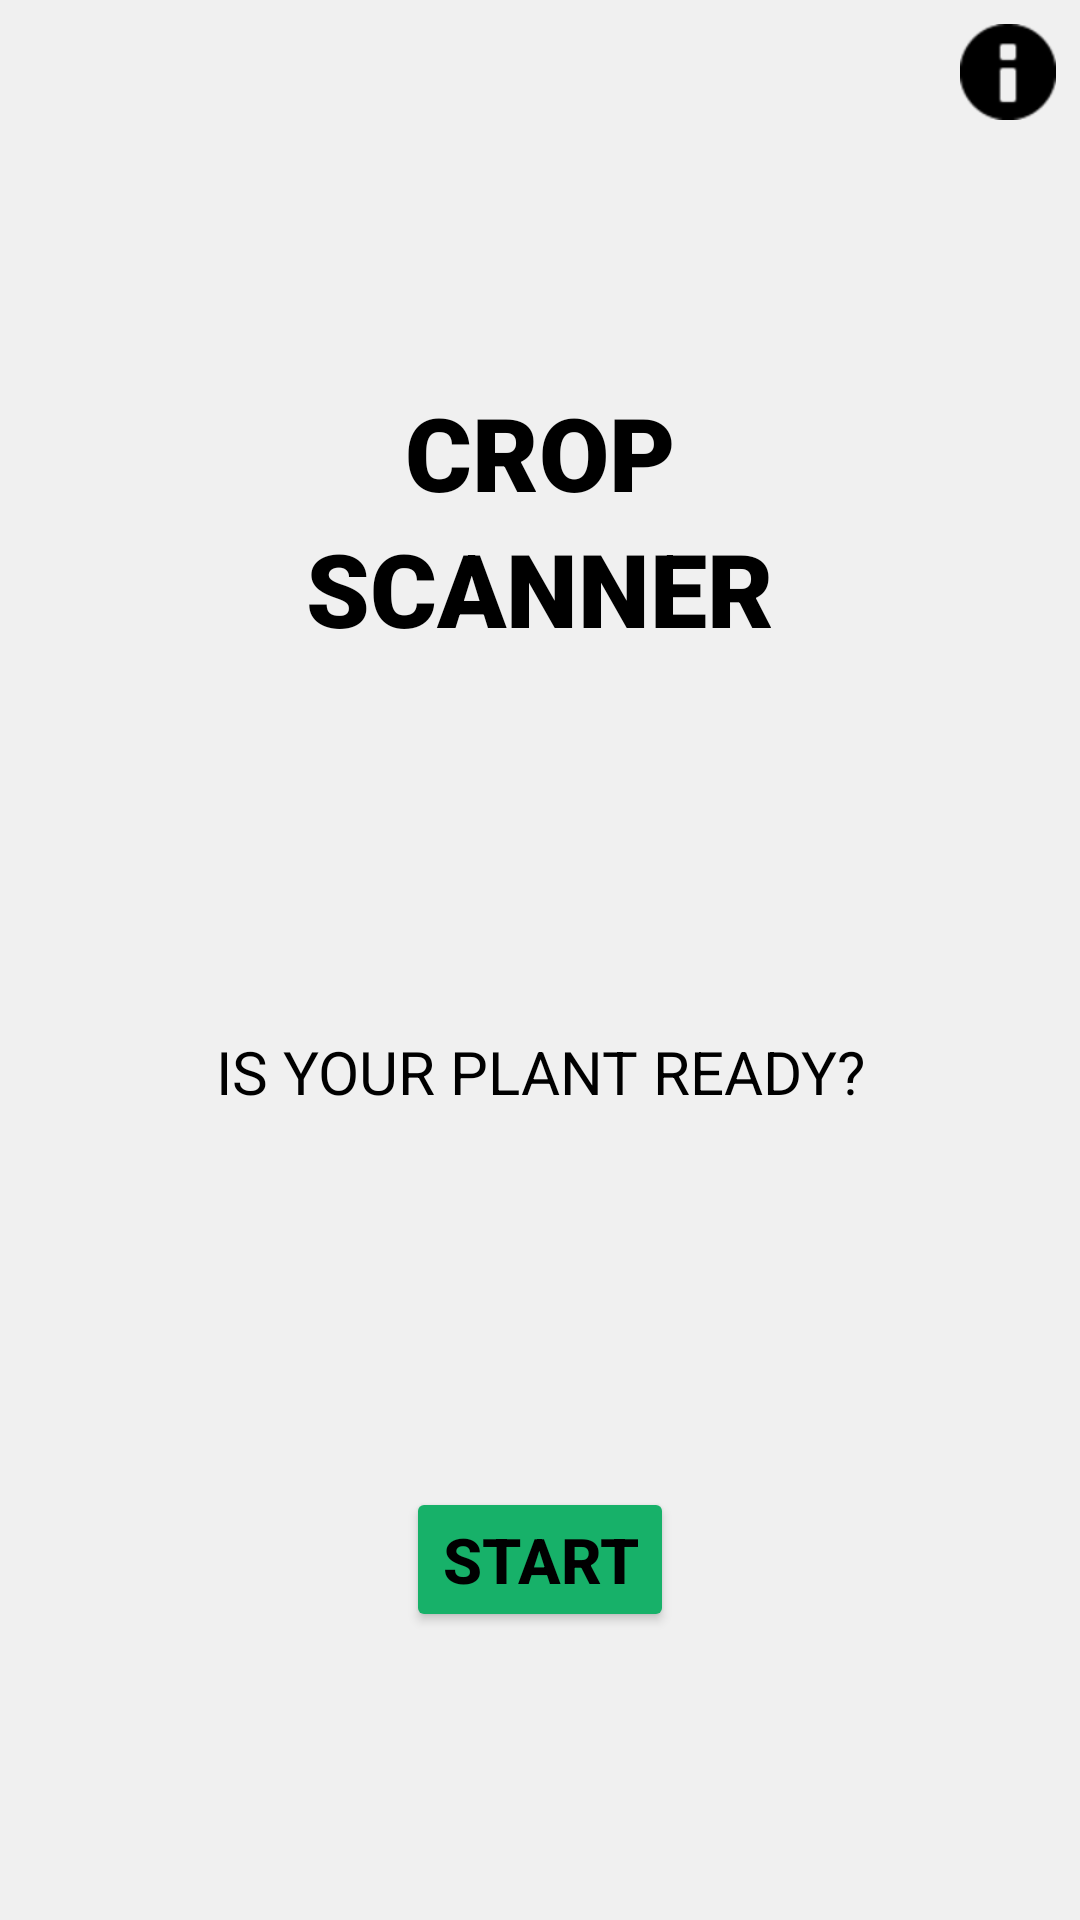

Screen size 1080×1920. Icon name, then its center in pixels as (x,y):
info: (1008,72)
